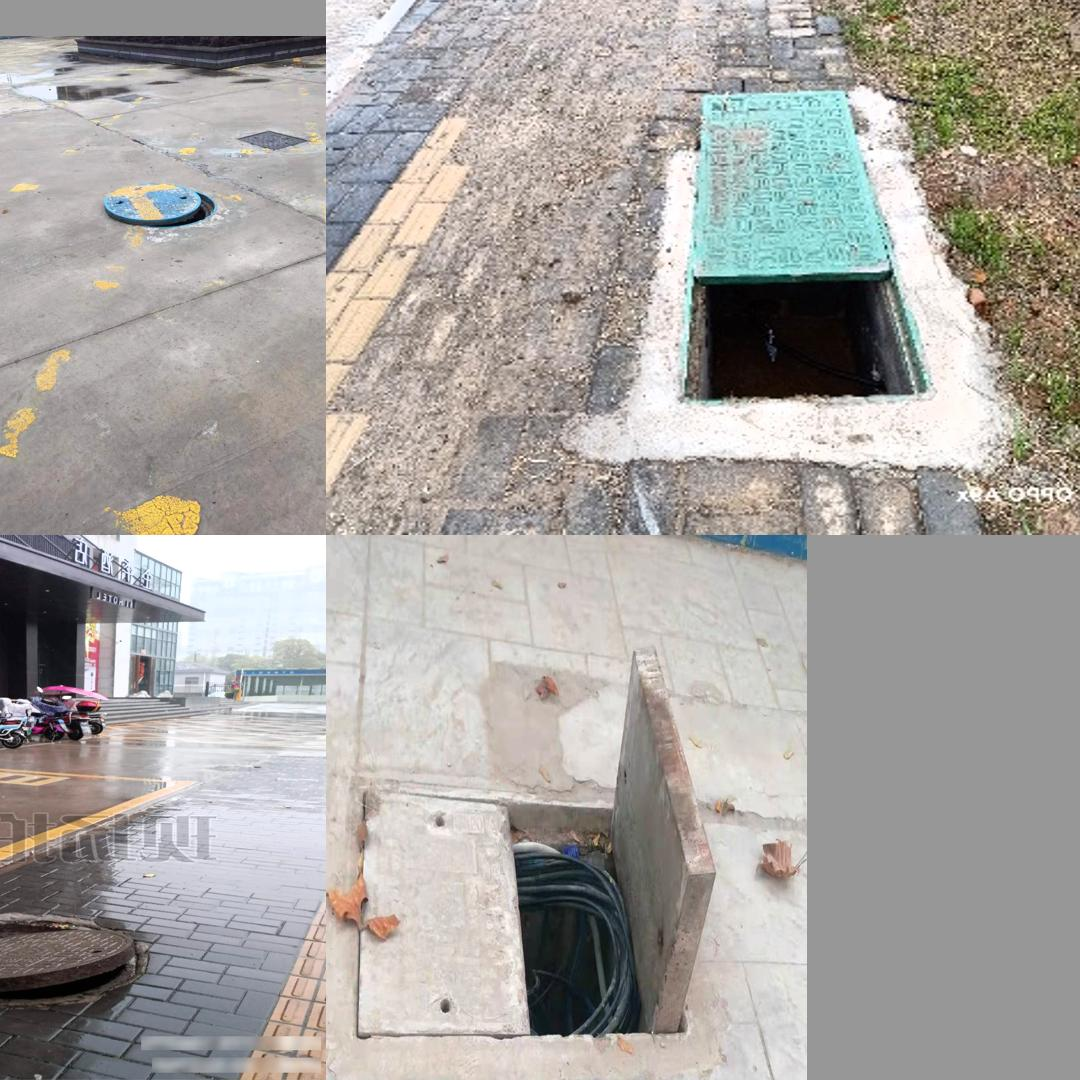uncovered: (355, 645, 712, 1037), (666, 66, 905, 412), (0, 911, 147, 1004), (105, 185, 217, 228)
